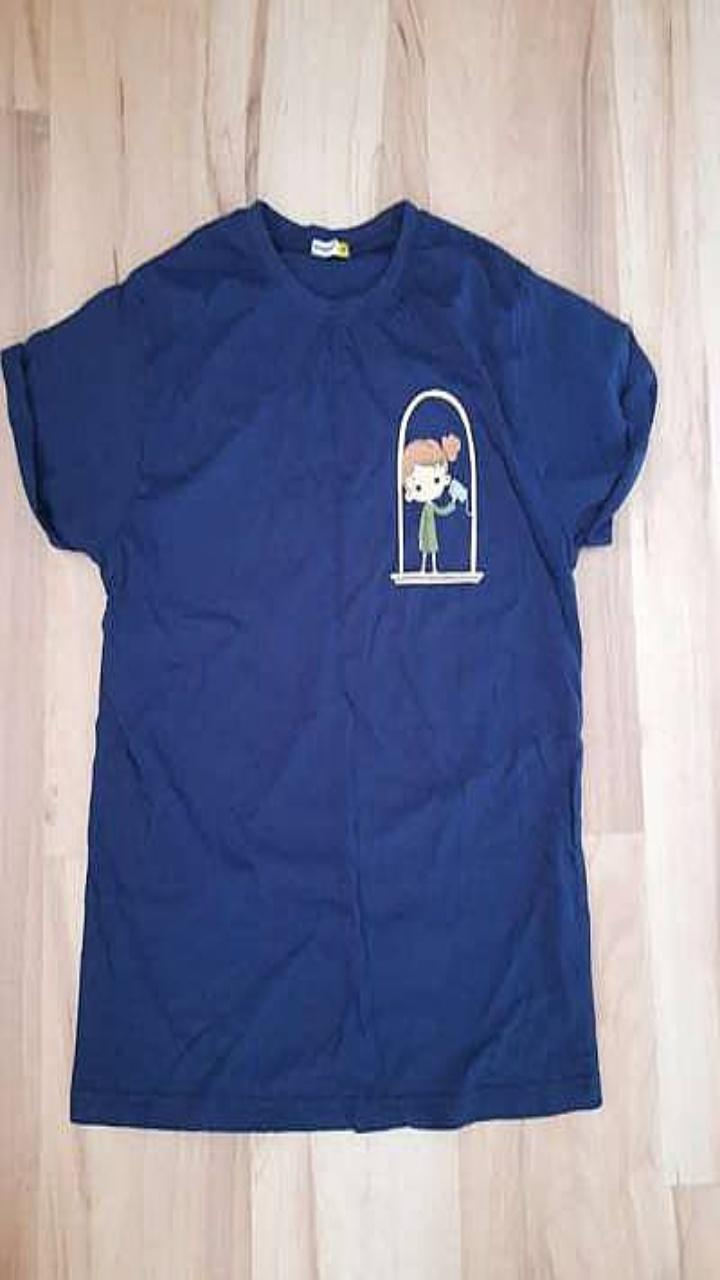T-Shirt: (2, 199, 655, 1130)
